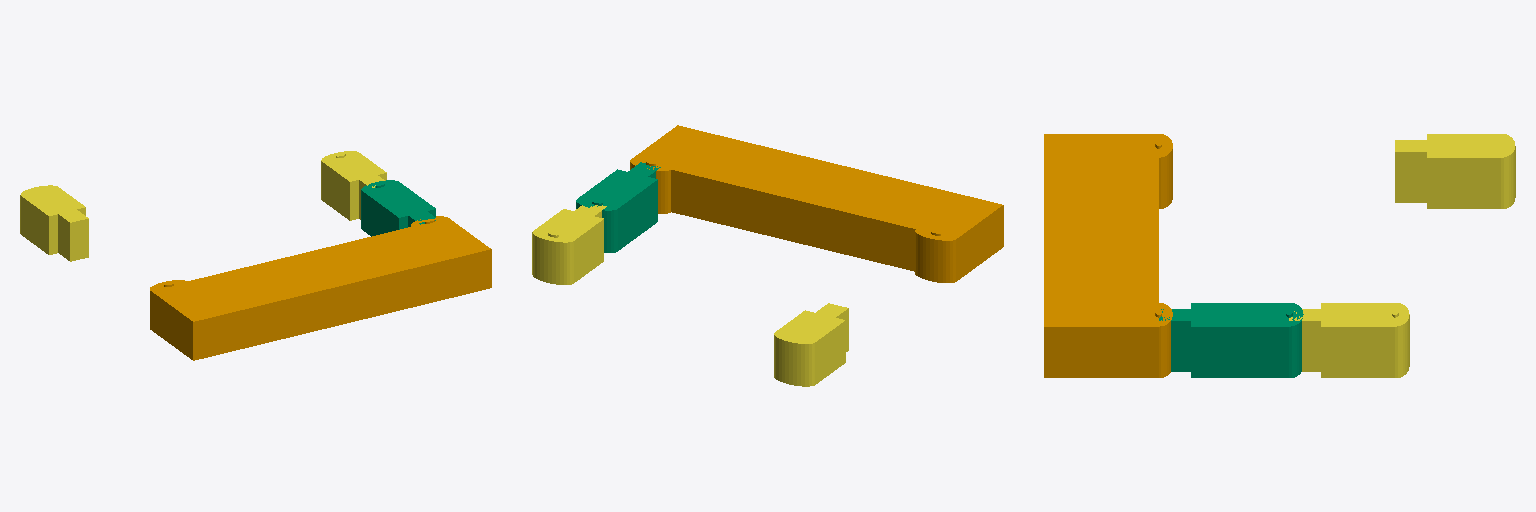
robot.urdf — testing2:
<?xml version="1.0" ?>
<robot name="testing2">

    <link name="body_palm_lpinvrspring">
        <visual>
            <origin rpy="0 1.5707963267948966 0" xyz="0 0 0"/>
            <geometry>
                <mesh filename="obj_files/body_palm_lpinvrspring.obj" scale="1 1 1"/>
            </geometry>
        </visual>
        <collision>
            <geometry>
                <mesh filename="obj_files/body_palm_lpinvrspring_collision.obj" scale="1 1 1"/>
            </geometry>
        </collision>
    </link>

    <joint name="l_prox_pin" type="revolute">
        <parent link="body_palm_lpinvrspring"/>
        <child link="body_l_prox_pinvpin"/>
        <origin rpy="0 0 0" xyz="-0.07 0.04 0"/>
        <axis xyz="0 0 1"/>
        <limit effort="1000.0" lower="-3.14" upper="3.14" velocity="0.5"/>
    </joint>

    <link name="body_l_prox_pinvpin">
        <visual>
            <origin rpy="0 1.5707963267948966 0" xyz="0 0 0"/>
            <geometry>
                <mesh filename="obj_files/body_l_prox_pinvpin.obj" scale="1 1 1"/>
            </geometry>
        </visual>
        <collision>
            <geometry>
                <mesh filename="obj_files/body_l_prox_pinvpin_collision.obj" scale="1 1 1"/>
            </geometry>
        </collision>
    </link>

    <joint name="l_intermediate_pin" type="revolute">
        <parent link="body_l_prox_pinvpin"/>
        <child link="body_l_intermediate_pinvpin"/>
        <origin rpy="0 0 0" xyz="0 0.04575 0"/>
        <axis xyz="0 0 1"/>
        <limit effort="1000.0" lower="-3.14" upper="3.14" velocity="0.5"/>
    </joint>

    <link name="body_l_intermediate_pinvpin">
        <visual>
            <origin rpy="0 1.5707963267948966 0" xyz="0 0 0"/>
            <geometry>
                <mesh filename="obj_files/body_l_intermediate_pinvpin.obj" scale="1 1 1"/>
            </geometry>
        </visual>
        <collision>
            <geometry>
                <mesh filename="obj_files/body_l_intermediate_pinvpin_collision.obj" scale="1 1 1"/>
            </geometry>
        </collision>
    </link>

    <joint name="l_distal_pin" type="revolute">
        <parent link="body_l_intermediate_pinvpin"/>
        <child link="body_l_distal_pinvround"/>
        <origin rpy="0 0 0" xyz="0 0.037125 0"/>
        <axis xyz="0 0 1"/>
        <limit effort="1000.0" lower="-3.14" upper="3.14" velocity="0.5"/>
    </joint>

    <link name="body_l_distal_pinvround">
        <visual>
            <origin rpy="0 1.5707963267948966 0" xyz="0 0 0"/>
            <geometry>
                <mesh filename="obj_files/body_l_distal_pinvround.obj" scale="1 1 1"/>
            </geometry>
        </visual>
        <collision>
            <geometry>
                <mesh filename="obj_files/body_l_distal_pinvround_collision.obj" scale="1 1 1"/>
            </geometry>
        </collision>
    </link>

    <joint name="l_sensor_0" type="fixed">
        <parent link="body_l_distal_pinvround"/>
        <child link="l_sensor_0"/>
        <origin rpy="0 0 0" xyz="0.01 0.03065625 0.005"/>
        <axis xyz="0 0 0"/>
        <limit effort="1000.0" lower="-3.14" upper="3.14" velocity="0.5"/>
    </joint>

    <link name="l_sensor_0">
        <visual>
            <origin rpy="0 0 0" xyz="0 0 0"/>
            <geometry>
                <mesh filename="obj_files/sensor.obj" scale="1 1 1"/>
            </geometry>
        </visual>
        <collision>
            <geometry>
                <mesh filename="obj_files/sensor_collision.obj" scale="1 1 1"/>
            </geometry>
        </collision>
    </link>

    <joint name="l_sensor_1" type="fixed">
        <parent link="body_l_distal_pinvround"/>
        <child link="l_sensor_1"/>
        <origin rpy="0 0 0" xyz="0.01 0.03065625 -0.005"/>
        <axis xyz="0 0 0"/>
        <limit effort="1000.0" lower="-3.14" upper="3.14" velocity="0.5"/>
    </joint>

    <link name="l_sensor_1">
        <visual>
            <origin rpy="0 0 0" xyz="0 0 0"/>
            <geometry>
                <mesh filename="obj_files/sensor.obj" scale="1 1 1"/>
            </geometry>
        </visual>
        <collision>
            <geometry>
                <mesh filename="obj_files/sensor_collision.obj" scale="1 1 1"/>
            </geometry>
        </collision>
    </link>

    <joint name="l_sensor_2" type="fixed">
        <parent link="body_l_distal_pinvround"/>
        <child link="l_sensor_2"/>
        <origin rpy="0 0 0" xyz="0.01 0.0241875 0.005"/>
        <axis xyz="0 0 0"/>
        <limit effort="1000.0" lower="-3.14" upper="3.14" velocity="0.5"/>
    </joint>

    <link name="l_sensor_2">
        <visual>
            <origin rpy="0 0 0" xyz="0 0 0"/>
            <geometry>
                <mesh filename="obj_files/sensor.obj" scale="1 1 1"/>
            </geometry>
        </visual>
        <collision>
            <geometry>
                <mesh filename="obj_files/sensor_collision.obj" scale="1 1 1"/>
            </geometry>
        </collision>
    </link>

    <joint name="l_sensor_3" type="fixed">
        <parent link="body_l_distal_pinvround"/>
        <child link="l_sensor_3"/>
        <origin rpy="0 0 0" xyz="0.01 0.0241875 -0.005"/>
        <axis xyz="0 0 0"/>
        <limit effort="1000.0" lower="-3.14" upper="3.14" velocity="0.5"/>
    </joint>

    <link name="l_sensor_3">
        <visual>
            <origin rpy="0 0 0" xyz="0 0 0"/>
            <geometry>
                <mesh filename="obj_files/sensor.obj" scale="1 1 1"/>
            </geometry>
        </visual>
        <collision>
            <geometry>
                <mesh filename="obj_files/sensor_collision.obj" scale="1 1 1"/>
            </geometry>
        </collision>
    </link>

    <joint name="l_sensor_4" type="fixed">
        <parent link="body_l_distal_pinvround"/>
        <child link="l_sensor_4"/>
        <origin rpy="0 0 0" xyz="0.01 0.017718750000000002 0.005"/>
        <axis xyz="0 0 0"/>
        <limit effort="1000.0" lower="-3.14" upper="3.14" velocity="0.5"/>
    </joint>

    <link name="l_sensor_4">
        <visual>
            <origin rpy="0 0 0" xyz="0 0 0"/>
            <geometry>
                <mesh filename="obj_files/sensor.obj" scale="1 1 1"/>
            </geometry>
        </visual>
        <collision>
            <geometry>
                <mesh filename="obj_files/sensor_collision.obj" scale="1 1 1"/>
            </geometry>
        </collision>
    </link>

    <joint name="l_sensor_5" type="fixed">
        <parent link="body_l_distal_pinvround"/>
        <child link="l_sensor_5"/>
        <origin rpy="0 0 0" xyz="0.01 0.017718750000000002 -0.005"/>
        <axis xyz="0 0 0"/>
        <limit effort="1000.0" lower="-3.14" upper="3.14" velocity="0.5"/>
    </joint>

    <link name="l_sensor_5">
        <visual>
            <origin rpy="0 0 0" xyz="0 0 0"/>
            <geometry>
                <mesh filename="obj_files/sensor.obj" scale="1 1 1"/>
            </geometry>
        </visual>
        <collision>
            <geometry>
                <mesh filename="obj_files/sensor_collision.obj" scale="1 1 1"/>
            </geometry>
        </collision>
    </link>

    <joint name="r_prox_pin" type="revolute">
        <parent link="body_palm_lpinvrspring"/>
        <child link="body_r_prox_pinvspring"/>
        <origin rpy="0 0 0" xyz="0.07 0.04 0"/>
        <axis xyz="0 0 1"/>
        <limit effort="1000.0" lower="-3.14" upper="3.14" velocity="0.5"/>
    </joint>

    <link name="body_r_prox_pinvspring">
        <visual>
            <origin rpy="0 1.5707963267948966 0" xyz="0 0 0"/>
            <geometry>
                <mesh filename="obj_files/body_r_prox_pinvspring.obj" scale="1 1 1"/>
            </geometry>
        </visual>
        <collision>
            <geometry>
                <mesh filename="obj_files/body_r_prox_pinvspring_collision.obj" scale="1 1 1"/>
            </geometry>
        </collision>
    </link>

    <joint name="r_intermediate_spring" type="revolute">
        <parent link="body_r_prox_pinvspring"/>
        <child link="body_r_intermediate_springvpin"/>
        <origin rpy="0 0 0" xyz="0 0.04575 0"/>
        <axis xyz="0 0 1"/>
        <limit effort="1000.0" lower="-3.14" upper="3.14" velocity="0.5"/>
    </joint>

    <link name="body_r_intermediate_springvpin">
        <visual>
            <origin rpy="0 1.5707963267948966 0" xyz="0 0 0"/>
            <geometry>
                <mesh filename="obj_files/body_r_intermediate_springvpin.obj" scale="1 1 1"/>
            </geometry>
        </visual>
        <collision>
            <geometry>
                <mesh filename="obj_files/body_r_intermediate_springvpin_collision.obj" scale="1 1 1"/>
            </geometry>
        </collision>
    </link>

    <joint name="r_distal_pin" type="revolute">
        <parent link="body_r_intermediate_springvpin"/>
        <child link="body_r_distal_pinvround"/>
        <origin rpy="0 0 0" xyz="0 0.037125 0"/>
        <axis xyz="0 0 1"/>
        <limit effort="1000.0" lower="-3.14" upper="3.14" velocity="0.5"/>
    </joint>

    <link name="body_r_distal_pinvround">
        <visual>
            <origin rpy="0 1.5707963267948966 0" xyz="0 0 0"/>
            <geometry>
                <mesh filename="obj_files/body_r_distal_pinvround.obj" scale="1 1 1"/>
            </geometry>
        </visual>
        <collision>
            <geometry>
                <mesh filename="obj_files/body_r_distal_pinvround_collision.obj" scale="1 1 1"/>
            </geometry>
        </collision>
    </link>

    <joint name="r_sensor_0" type="fixed">
        <parent link="body_r_distal_pinvround"/>
        <child link="r_sensor_0"/>
        <origin rpy="0 0 0" xyz="-0.01 0.03065625 0.005"/>
        <axis xyz="0 0 0"/>
        <limit effort="1000.0" lower="-3.14" upper="3.14" velocity="0.5"/>
    </joint>

    <link name="r_sensor_0">
        <visual>
            <origin rpy="0 0 3.141592653589793" xyz="0 0 0"/>
            <geometry>
                <mesh filename="obj_files/sensor.obj" scale="1 1 1"/>
            </geometry>
        </visual>
        <collision>
            <geometry>
                <mesh filename="obj_files/sensor_collision.obj" scale="1 1 1"/>
            </geometry>
        </collision>
    </link>

    <joint name="r_sensor_1" type="fixed">
        <parent link="body_r_distal_pinvround"/>
        <child link="r_sensor_1"/>
        <origin rpy="0 0 0" xyz="-0.01 0.03065625 -0.005"/>
        <axis xyz="0 0 0"/>
        <limit effort="1000.0" lower="-3.14" upper="3.14" velocity="0.5"/>
    </joint>

    <link name="r_sensor_1">
        <visual>
            <origin rpy="0 0 3.141592653589793" xyz="0 0 0"/>
            <geometry>
                <mesh filename="obj_files/sensor.obj" scale="1 1 1"/>
            </geometry>
        </visual>
        <collision>
            <geometry>
                <mesh filename="obj_files/sensor_collision.obj" scale="1 1 1"/>
            </geometry>
        </collision>
    </link>

    <joint name="r_sensor_2" type="fixed">
        <parent link="body_r_distal_pinvround"/>
        <child link="r_sensor_2"/>
        <origin rpy="0 0 0" xyz="-0.01 0.0241875 0.005"/>
        <axis xyz="0 0 0"/>
        <limit effort="1000.0" lower="-3.14" upper="3.14" velocity="0.5"/>
    </joint>

    <link name="r_sensor_2">
        <visual>
            <origin rpy="0 0 3.141592653589793" xyz="0 0 0"/>
            <geometry>
                <mesh filename="obj_files/sensor.obj" scale="1 1 1"/>
            </geometry>
        </visual>
        <collision>
            <geometry>
                <mesh filename="obj_files/sensor_collision.obj" scale="1 1 1"/>
            </geometry>
        </collision>
    </link>

    <joint name="r_sensor_3" type="fixed">
        <parent link="body_r_distal_pinvround"/>
        <child link="r_sensor_3"/>
        <origin rpy="0 0 0" xyz="-0.01 0.0241875 -0.005"/>
        <axis xyz="0 0 0"/>
        <limit effort="1000.0" lower="-3.14" upper="3.14" velocity="0.5"/>
    </joint>

    <link name="r_sensor_3">
        <visual>
            <origin rpy="0 0 3.141592653589793" xyz="0 0 0"/>
            <geometry>
                <mesh filename="obj_files/sensor.obj" scale="1 1 1"/>
            </geometry>
        </visual>
        <collision>
            <geometry>
                <mesh filename="obj_files/sensor_collision.obj" scale="1 1 1"/>
            </geometry>
        </collision>
    </link>

    <joint name="r_sensor_4" type="fixed">
        <parent link="body_r_distal_pinvround"/>
        <child link="r_sensor_4"/>
        <origin rpy="0 0 0" xyz="-0.01 0.017718750000000002 0.005"/>
        <axis xyz="0 0 0"/>
        <limit effort="1000.0" lower="-3.14" upper="3.14" velocity="0.5"/>
    </joint>

    <link name="r_sensor_4">
        <visual>
            <origin rpy="0 0 3.141592653589793" xyz="0 0 0"/>
            <geometry>
                <mesh filename="obj_files/sensor.obj" scale="1 1 1"/>
            </geometry>
        </visual>
        <collision>
            <geometry>
                <mesh filename="obj_files/sensor_collision.obj" scale="1 1 1"/>
            </geometry>
        </collision>
    </link>

    <joint name="r_sensor_5" type="fixed">
        <parent link="body_r_distal_pinvround"/>
        <child link="r_sensor_5"/>
        <origin rpy="0 0 0" xyz="-0.01 0.017718750000000002 -0.005"/>
        <axis xyz="0 0 0"/>
        <limit effort="1000.0" lower="-3.14" upper="3.14" velocity="0.5"/>
    </joint>

    <link name="r_sensor_5">
        <visual>
            <origin rpy="0 0 3.141592653589793" xyz="0 0 0"/>
            <geometry>
                <mesh filename="obj_files/sensor.obj" scale="1 1 1"/>
            </geometry>
        </visual>
        <collision>
            <geometry>
                <mesh filename="obj_files/sensor_collision.obj" scale="1 1 1"/>
            </geometry>
        </collision>
    </link>

</robot>

--- Facts derived from the render (not from the file) ---
The picture shows the robot from 3 angles, left to right: view 1: azimuth 30°, elevation 25°; view 2: azimuth 150°, elevation 25°; view 3: azimuth 270°, elevation 25°; orthographic projection.
Robot: testing2 — 19 links, 18 joints (6 revolute, 12 fixed); root link body_palm_lpinvrspring; default pose: every joint at zero.
Links seen in each view (by area): view 1: body_palm_lpinvrspring, body_l_distal_pinvround, body_r_prox_pinvspring, body_r_intermediate_springvpin; view 2: body_palm_lpinvrspring, body_l_distal_pinvround, body_r_intermediate_springvpin, body_r_prox_pinvspring; view 3: body_palm_lpinvrspring, body_r_prox_pinvspring, body_l_distal_pinvround, body_r_intermediate_springvpin.
Boxes of the visible links, x1,y1,x2,y2 form: body_palm_lpinvrspring: (150, 216, 491, 360); body_l_distal_pinvround: (20, 185, 88, 261); body_r_prox_pinvspring: (361, 180, 435, 236); body_r_intermediate_springvpin: (321, 151, 386, 220); body_palm_lpinvrspring: (630, 125, 1003, 282); body_l_distal_pinvround: (774, 303, 848, 386); body_r_intermediate_springvpin: (532, 205, 606, 284); body_r_prox_pinvspring: (576, 162, 660, 252); body_palm_lpinvrspring: (1044, 134, 1172, 377); body_r_prox_pinvspring: (1159, 303, 1303, 377); body_l_distal_pinvround: (1395, 134, 1515, 208); body_r_intermediate_springvpin: (1289, 303, 1409, 377).
Size in the robot's own frame: 0.16 by 0.165 by 0.022 metres.
Meshes: 8 distinct files referenced, 4 mesh visuals loaded (4 OBJ); not drawn: 15 (reference not matched to a file when rendering).